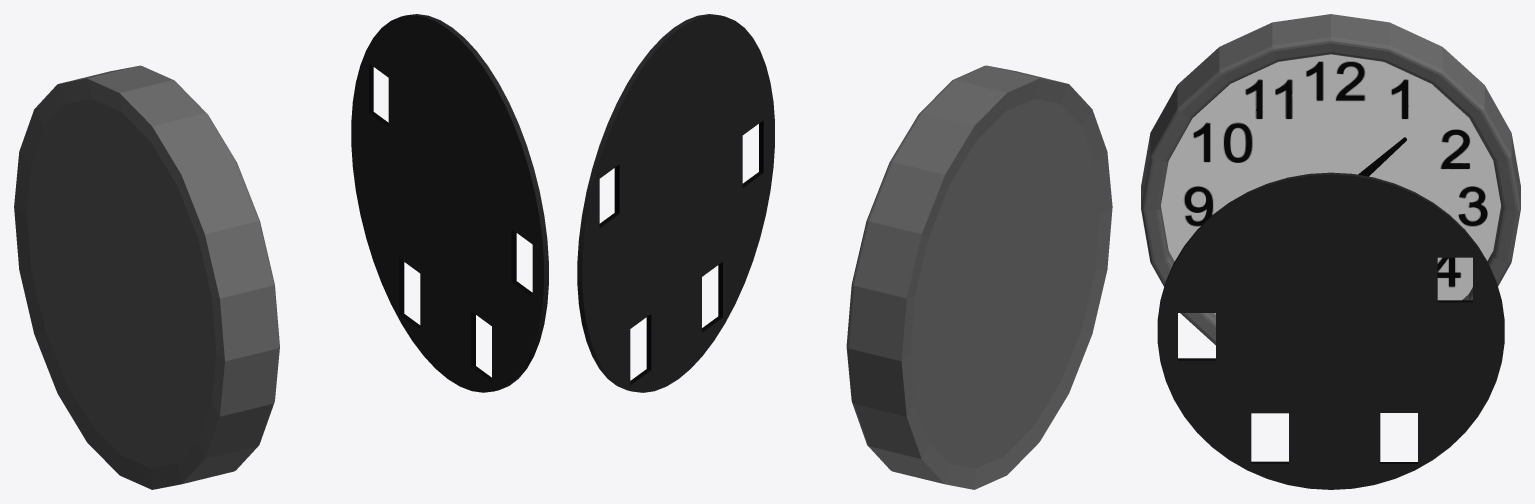
File: klok.fbx
3 renders of one model, left to right at view 1: azimuth 30°, elevation 25°; view 2: azimuth 150°, elevation 25°; view 3: azimuth 270°, elevation 25°, orthographic. The views are drawn at different scales.
Parts seen in each view (by area): view 1: klok, sleutel_klok; view 2: klok, sleutel_klok; view 3: sleutel_klok, klok.
Part boxes in pixels (bbox=[...]): klok: bbox=[14, 65, 279, 489]; sleutel_klok: bbox=[351, 14, 548, 392]; klok: bbox=[846, 65, 1112, 489]; sleutel_klok: bbox=[577, 14, 774, 392]; sleutel_klok: bbox=[1157, 172, 1504, 489]; klok: bbox=[1141, 14, 1520, 345].
Bounding box in the file's own units: 0.6086 × 0.6677 × 0.6677.
2 materials, 2 textured.
